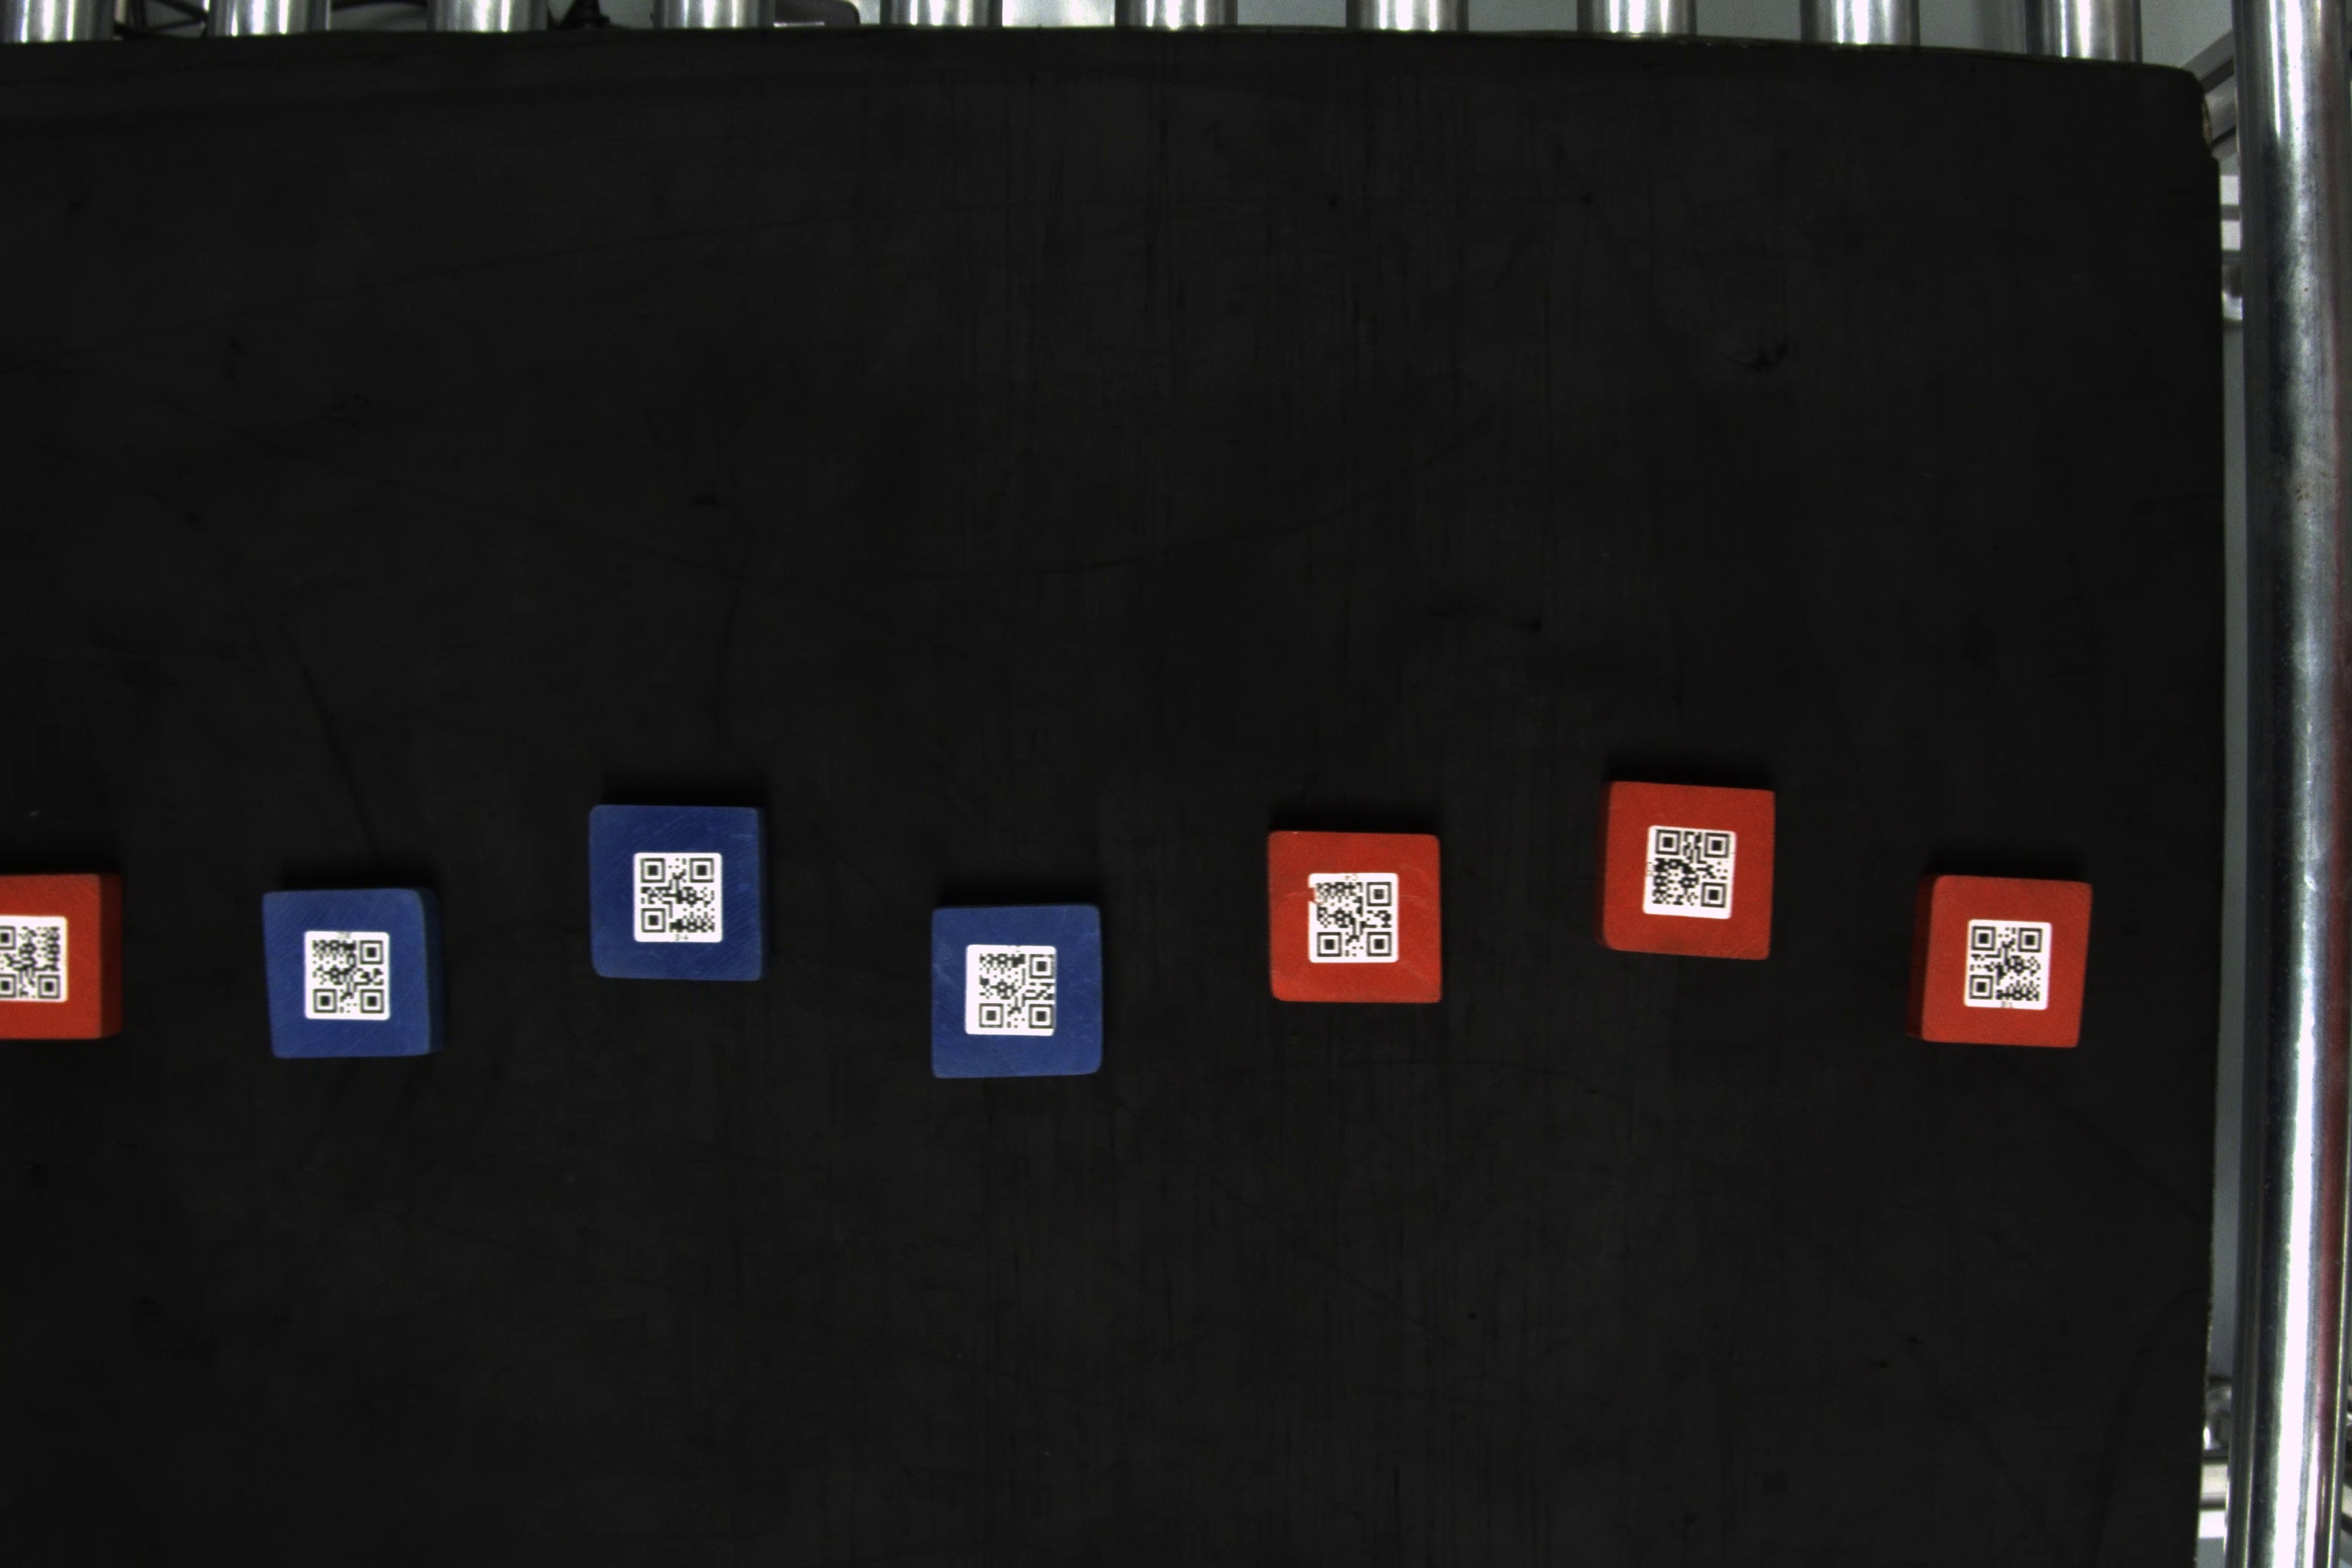wood: (584, 798, 773, 983), (1263, 819, 1449, 1006), (255, 887, 448, 1066), (1601, 777, 1781, 966), (929, 906, 1109, 1081), (1918, 870, 2091, 1046), (0, 875, 121, 1050)
